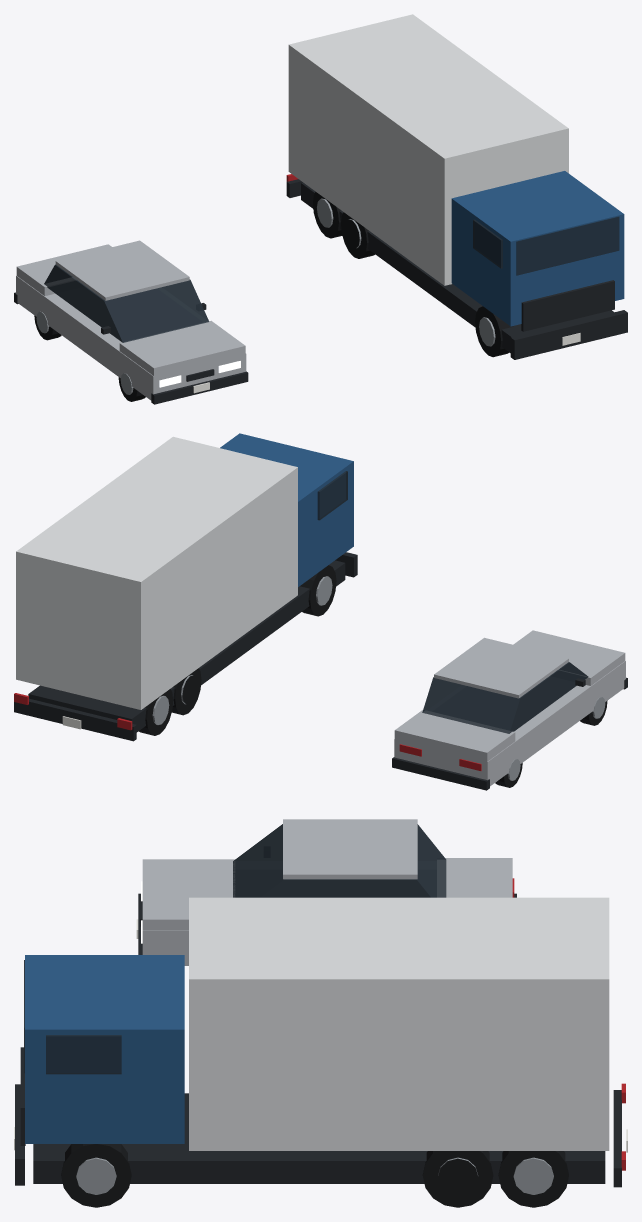
The model's file is vehicles.glb.
The picture shows the model from 3 angles, top to bottom: view 1: azimuth 30°, elevation 25°; view 2: azimuth 150°, elevation 25°; view 3: azimuth 270°, elevation 25°; orthographic projection. The views are drawn at different scales.
Parts seen in each view (by area): view 1: Truck, Sedan; view 2: Truck, Sedan; view 3: Truck, Sedan.
Boxes of the visible parts, left/top/right/bottom form: Truck: left=286, top=14, right=627, bottom=359; Sedan: left=14, top=240, right=248, bottom=404; Truck: left=14, top=433, right=357, bottom=741; Sedan: left=392, top=630, right=627, bottom=790; Truck: left=14, top=897, right=627, bottom=1207; Sedan: left=136, top=819, right=516, bottom=965.
Bounding box in the file's own units: 8.1 × 3.08 × 7.3.
